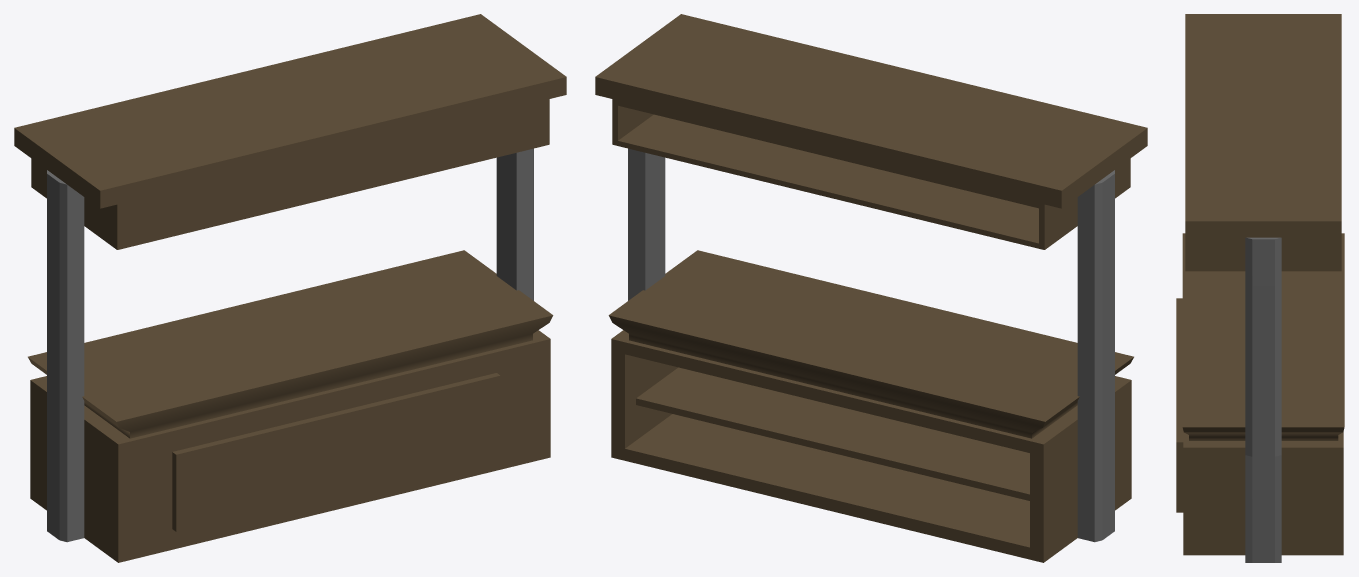
File: DeskC.fbx
The picture shows the model from 3 angles, left to right: view 1: azimuth 30°, elevation 25°; view 2: azimuth 150°, elevation 25°; view 3: azimuth 270°, elevation 25°; orthographic projection. The views are drawn at different scales.
Parts seen in each view (by area): view 1: DeskA; view 2: DeskA; view 3: DeskA.
Boxes of the visible parts, box(x1,y1,x2,y2) form: DeskA: box(14, 14, 566, 562); DeskA: box(595, 14, 1147, 562); DeskA: box(1176, 14, 1344, 562).
Size of the model in its own units: 415 by 314 by 140.
